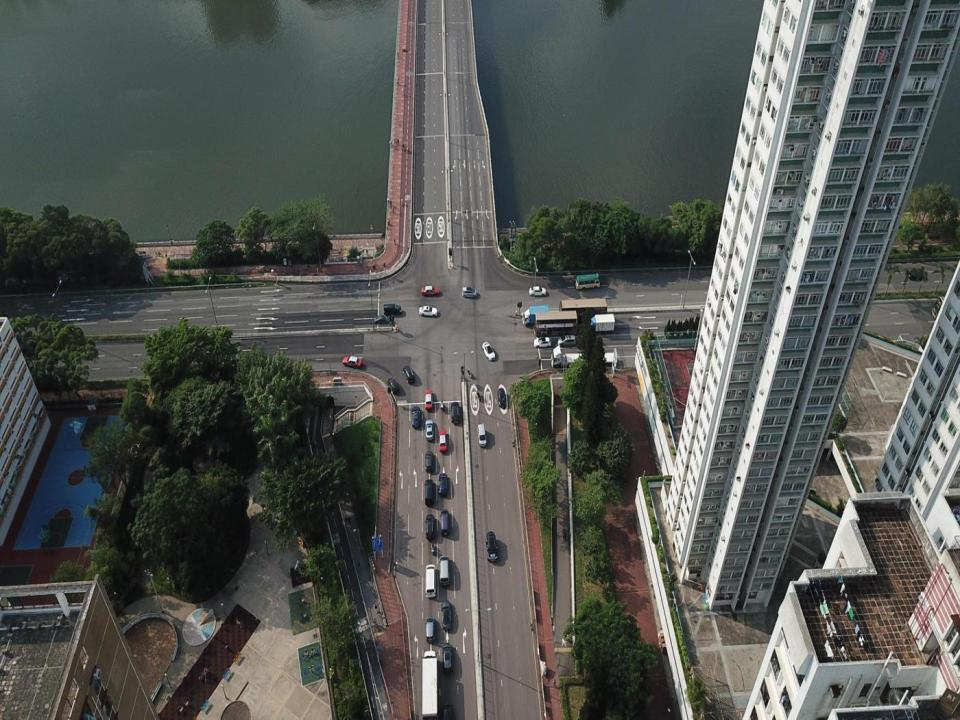bus: (558, 297, 608, 322), (574, 272, 601, 291)
car: (485, 530, 498, 562), (441, 642, 453, 674), (440, 600, 452, 630), (423, 478, 435, 505), (439, 508, 450, 537), (481, 341, 496, 362), (425, 616, 436, 643), (424, 513, 435, 539), (341, 355, 363, 368), (438, 472, 449, 497), (402, 365, 416, 384), (438, 429, 449, 453), (450, 401, 461, 424), (386, 377, 400, 395), (556, 334, 577, 346), (419, 304, 438, 317), (424, 419, 435, 441), (410, 406, 421, 428), (461, 285, 478, 299), (533, 336, 551, 349), (374, 313, 392, 326), (496, 388, 507, 408), (384, 304, 402, 316), (421, 285, 440, 296), (424, 388, 433, 411), (442, 701, 453, 719), (528, 286, 546, 297), (425, 451, 434, 472)
truck: (550, 344, 617, 369), (533, 309, 578, 337), (422, 651, 439, 719), (522, 304, 549, 328), (589, 312, 616, 334)
van: (424, 564, 437, 598), (438, 554, 451, 586), (476, 424, 488, 448)
